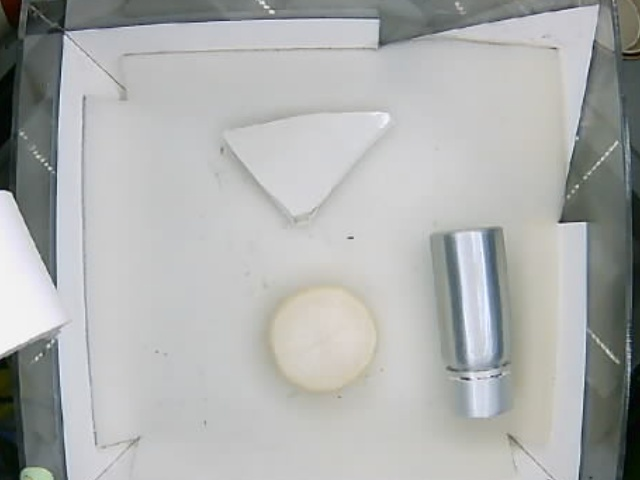Bottle: (431, 225, 512, 417)
China: (225, 113, 396, 222)
Mooli: (268, 287, 381, 395)
